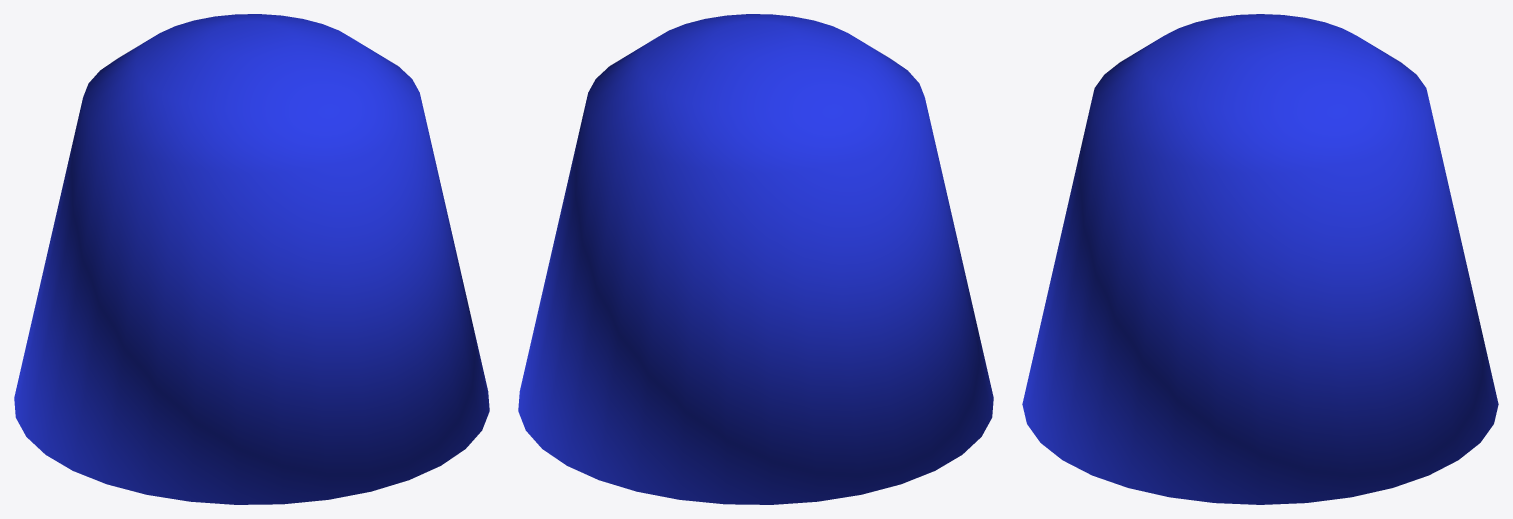
The model's file is GumdropPurple.fbx.
3 renders of one model, left to right at view 1: azimuth 30°, elevation 25°; view 2: azimuth 150°, elevation 25°; view 3: azimuth 270°, elevation 25°, orthographic.
Parts seen in each view (by area): view 1: Cylinder; view 2: Cylinder; view 3: Cylinder.
Boxes of the visible parts, box(x1,y1,x2,y2) form: Cylinder: box(14, 14, 489, 504); Cylinder: box(518, 14, 993, 504); Cylinder: box(1022, 14, 1498, 504).
Size of the model in its own units: 237 by 200 by 237.
